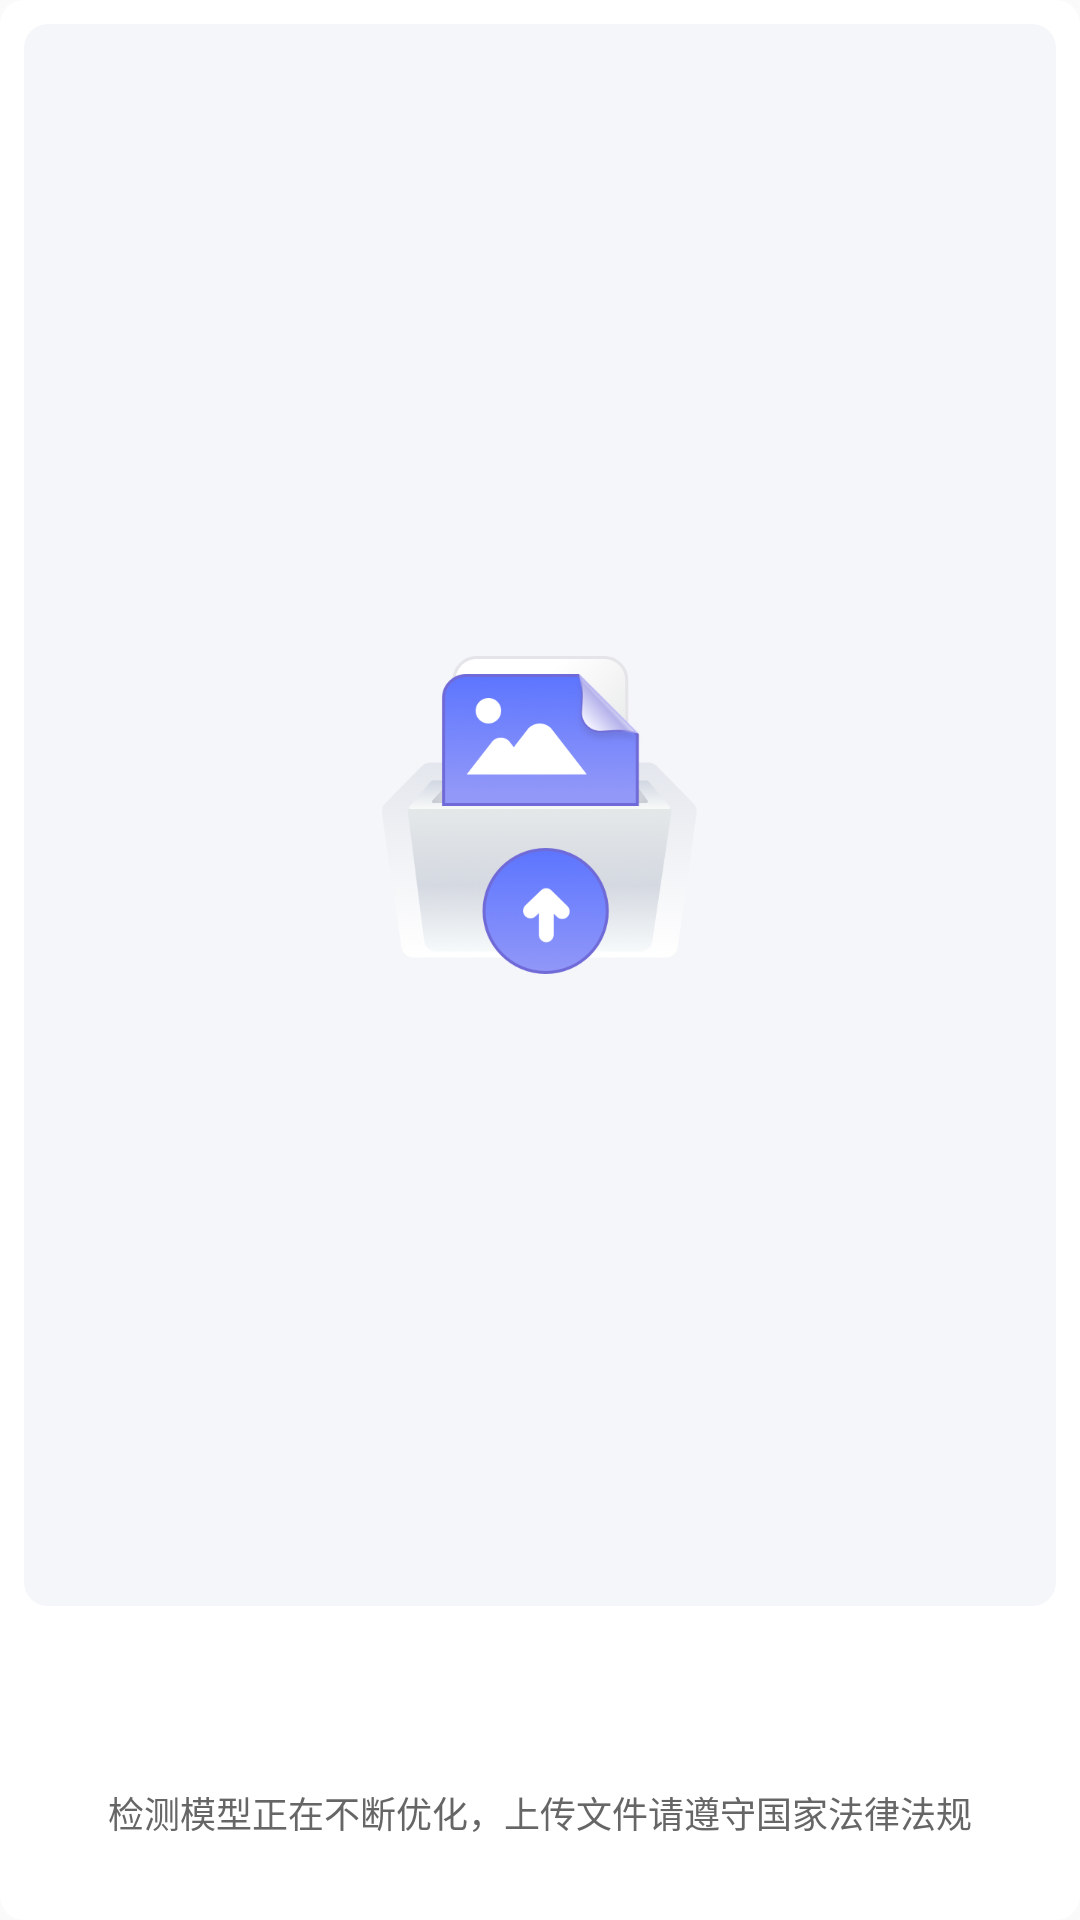

Named icons in this screenshot (1080px x 1920px) and their centers, (x=x, y=y):
upload: (x=539, y=824)
